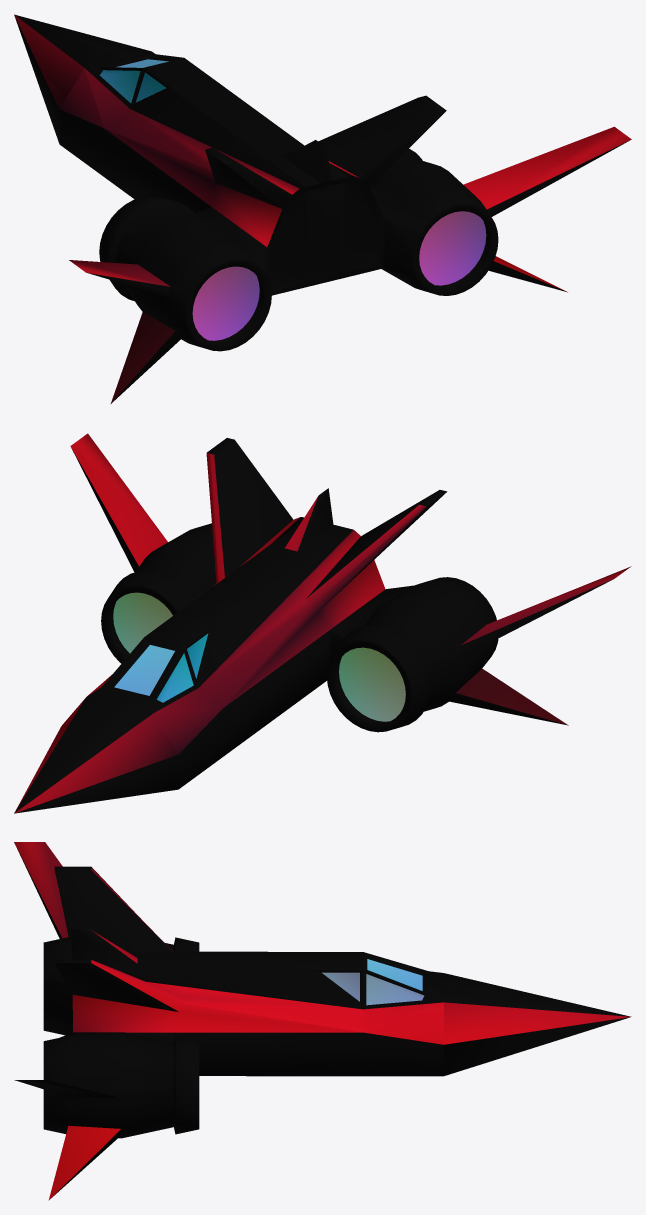
The model's file is Raven-IX.fbx.
3 views of the same model, one above another, from view 1: azimuth 30°, elevation 25°; view 2: azimuth 150°, elevation 25°; view 3: azimuth 270°, elevation 25° (orthographic). The views are drawn at different scales.
Visible parts, largest first — view 1: Raven IX Cockpit.003; view 2: Raven IX Cockpit.003; view 3: Raven IX Cockpit.003.
Part boxes in pixels (box(x1,y1,x2,y2)): Raven IX Cockpit.003: box(14, 14, 631, 403); Raven IX Cockpit.003: box(14, 433, 631, 813); Raven IX Cockpit.003: box(14, 842, 631, 1200).
Size of the model in its own units: 1620 by 591 by 1779.
4 materials, 1 textured.
